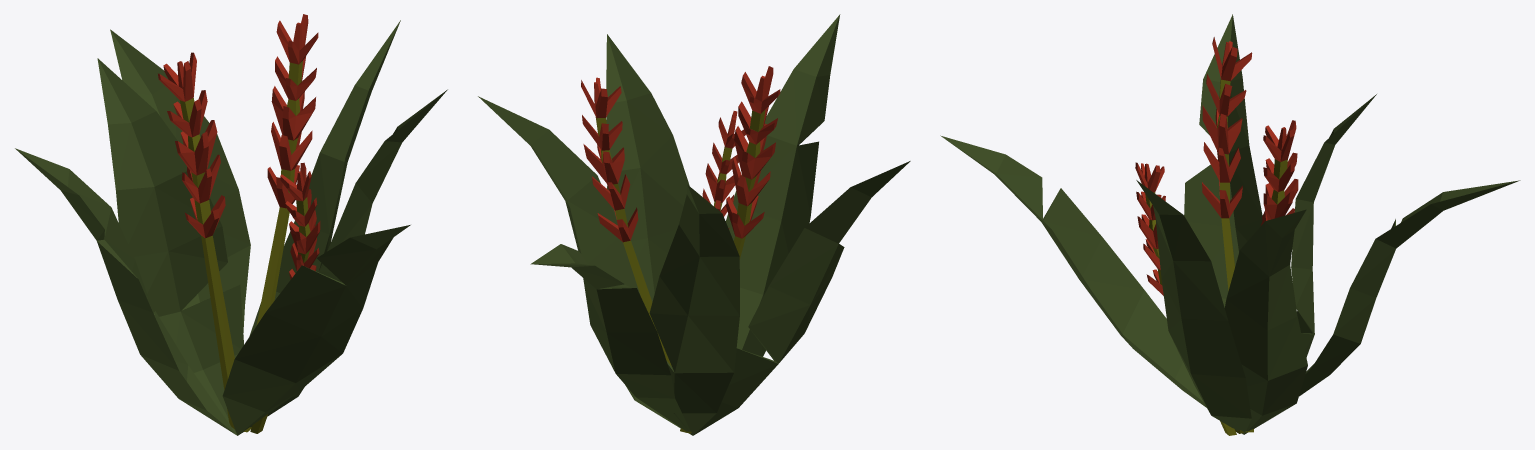
File: Plant_8.fbx
3 renders of one model, left to right at view 1: azimuth 30°, elevation 25°; view 2: azimuth 150°, elevation 25°; view 3: azimuth 270°, elevation 25°, orthographic. The views are drawn at different scales.
Parts seen in each view (by area): view 1: Plant_8; view 2: Plant_8; view 3: Plant_8.
Boxes of the visible parts, x1=… form: Plant_8: x1=15, y1=14, x2=447, y2=435; Plant_8: x1=478, y1=14, x2=910, y2=435; Plant_8: x1=940, y1=14, x2=1520, y2=435.
Size of the model in its own units: 0.7906 by 0.7123 by 1.02.
